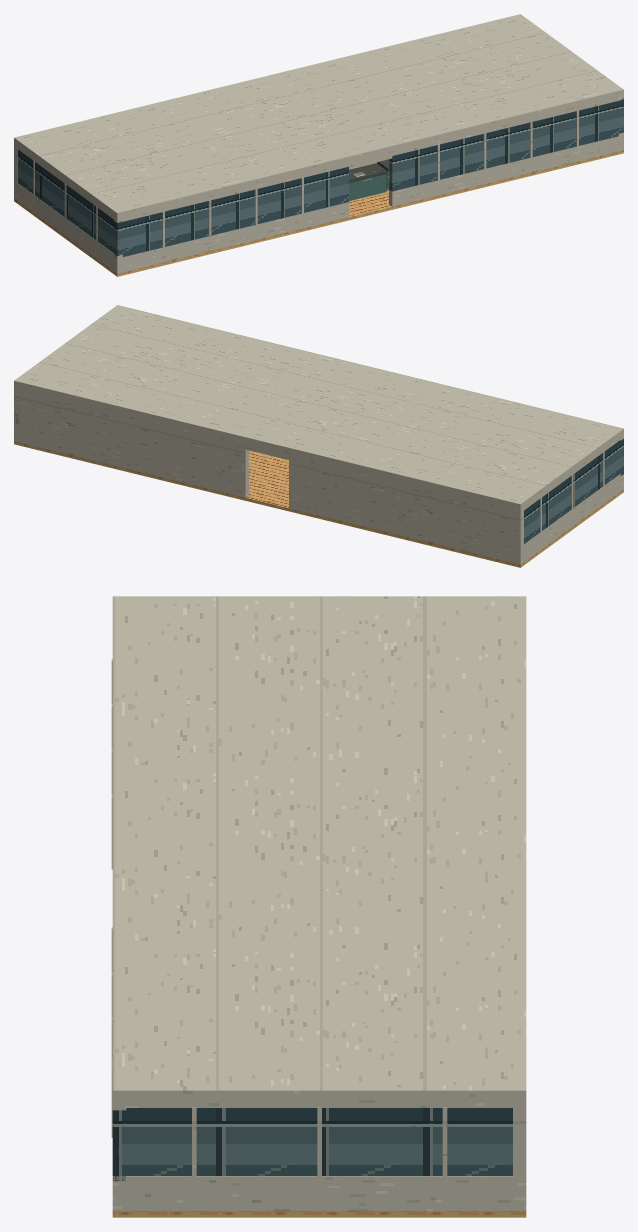
The model's file is mv-bridge.glb.
3 views of the same model, one above another, from view 1: azimuth 30°, elevation 25°; view 2: azimuth 150°, elevation 25°; view 3: azimuth 270°, elevation 25° (orthographic). The views are drawn at different scales.
Visible parts, largest first — view 1: shell.003, floor_mv-bridge, fittings.003; view 2: shell.003, floor_mv-bridge; view 3: shell.003, floor_mv-bridge.
Boxes of the visible parts, x1,y1,x2,y2 form: shell.003: [14, 14, 623, 273]; floor_mv-bridge: [14, 150, 623, 276]; fittings.003: [349, 159, 389, 200]; shell.003: [14, 305, 623, 564]; floor_mv-bridge: [14, 441, 623, 567]; shell.003: [111, 596, 526, 1211]; floor_mv-bridge: [112, 1211, 526, 1217].
Bounding box in the file's own units: 28.04 × 3.36 × 9.93.
9 materials, 9 textured.
